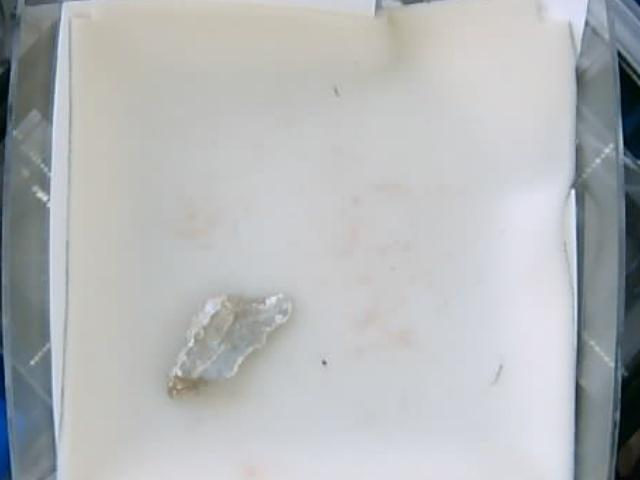Brisk: (170, 291, 293, 393)
